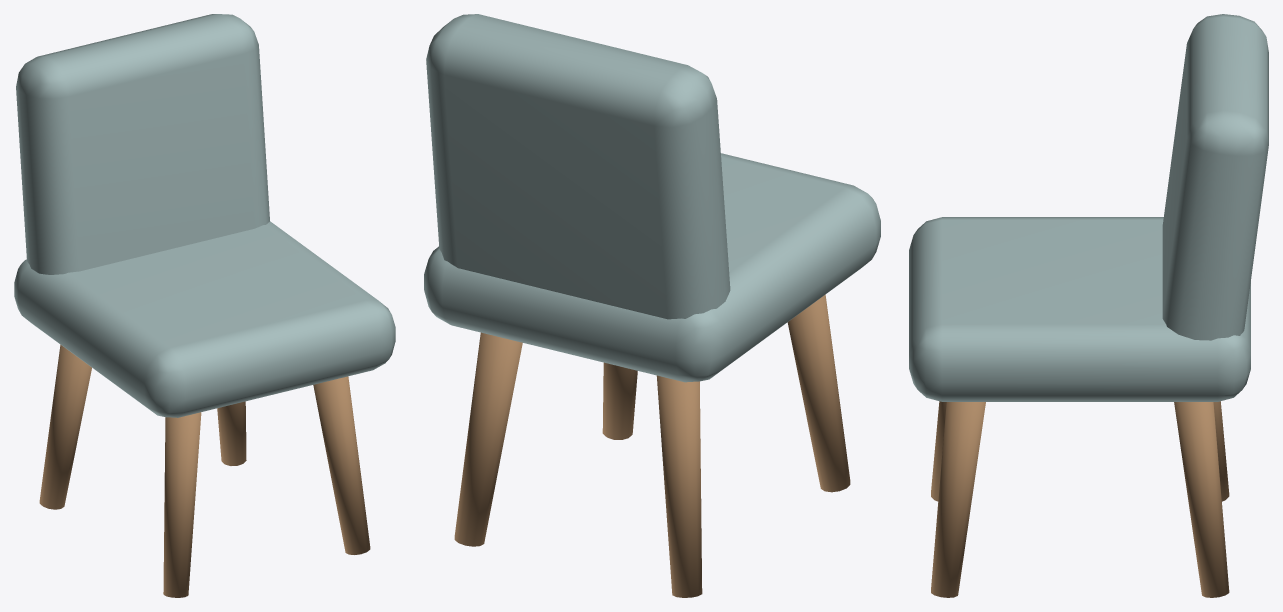
Rendered from atelier-children-s-chair.glb.
The picture shows the model from 3 angles, left to right: view 1: azimuth 30°, elevation 25°; view 2: azimuth 150°, elevation 25°; view 3: azimuth 270°, elevation 25°; orthographic projection. The views are drawn at different scales.
Visible parts, largest first — view 1: fabric.089, legs.184; view 2: fabric.089, legs.184; view 3: fabric.089, legs.184.
Boxes of the visible parts, bbox=[...] form: fabric.089: bbox=[14, 14, 395, 417]; legs.184: bbox=[39, 344, 370, 597]; fabric.089: bbox=[424, 14, 880, 382]; legs.184: bbox=[454, 294, 850, 597]; fabric.089: bbox=[909, 14, 1268, 401]; legs.184: bbox=[931, 401, 1229, 597].
Bounding box in the file's own units: 0.3445 × 0.5874 × 0.3967.
